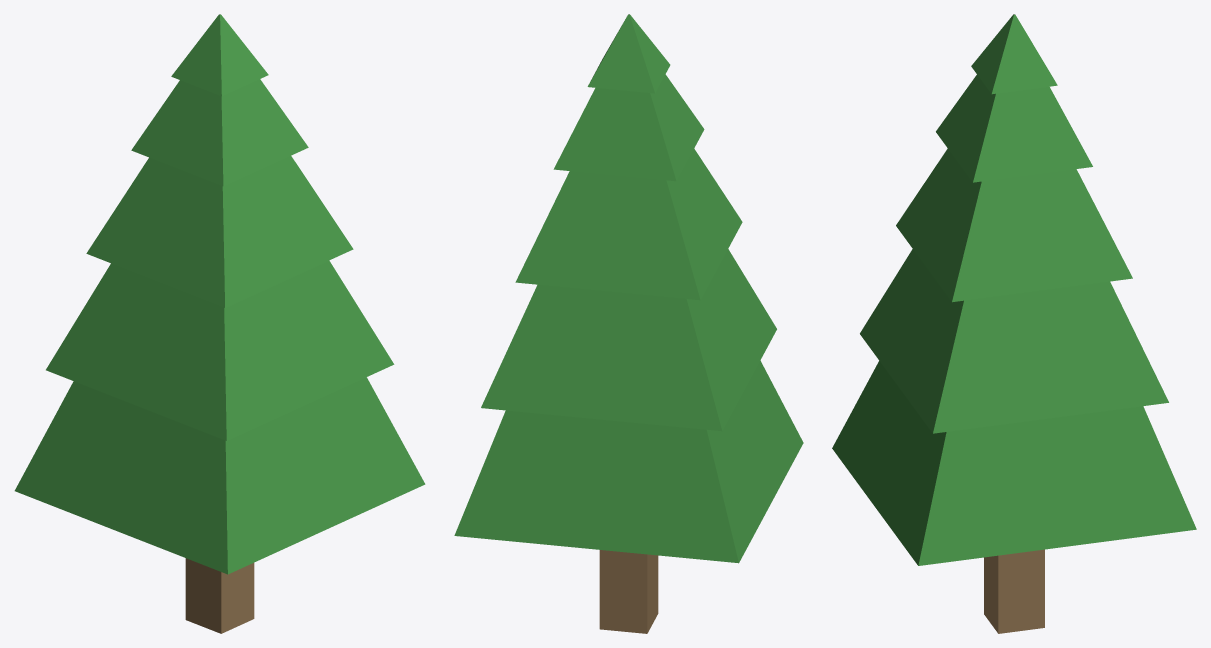
Rendered from Evergreen_Tree_4pt.fbx.
The picture shows the model from 3 angles, left to right: view 1: azimuth 30°, elevation 25°; view 2: azimuth 150°, elevation 25°; view 3: azimuth 270°, elevation 25°; orthographic projection.
Visible parts, largest first — view 1: Tree_4pt; view 2: Tree_4pt; view 3: Tree_4pt.
Part boxes in pixels (x1,y1,x2,y2): Tree_4pt: (14,14,425,633); Tree_4pt: (454,14,803,633); Tree_4pt: (832,14,1196,633).
Size of the model in its own units: 9.01 by 16.53 by 9.01.
